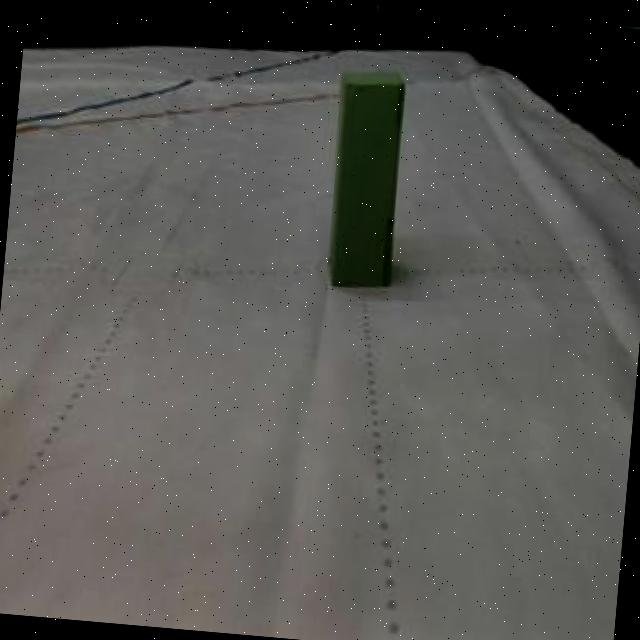greenbox: (324, 62, 413, 288)
